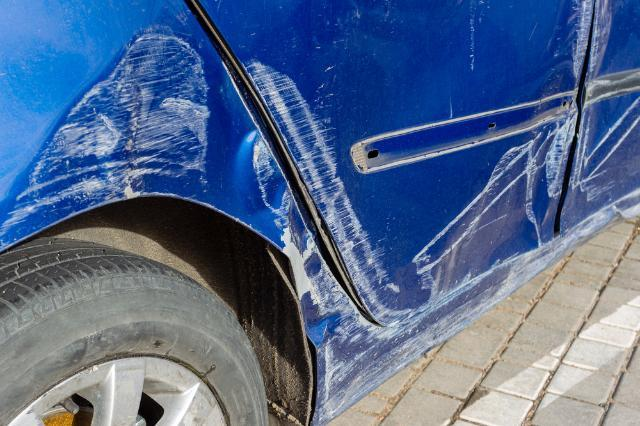dent: (0, 32, 292, 252), (434, 67, 575, 301)
rub: (241, 58, 538, 327)
scratch: (288, 187, 640, 426), (568, 0, 640, 202), (570, 0, 598, 81)
